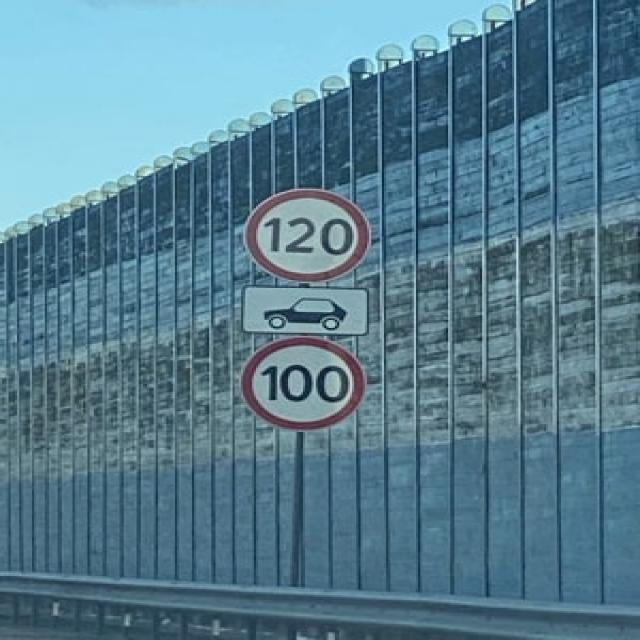Speed Limit -100-: (259, 364, 351, 404)
Speed Limit -120-: (262, 216, 356, 256)
